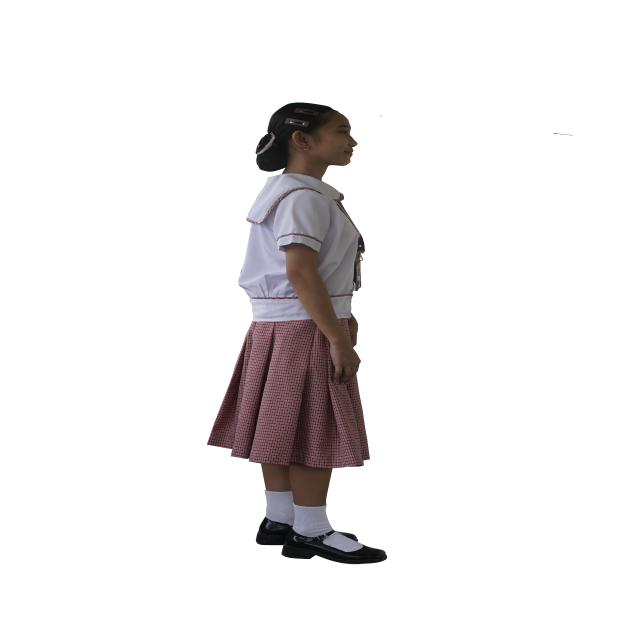pologirl: (238, 174, 363, 321)
shoes: (256, 517, 386, 564)
skirt: (208, 320, 369, 468)
